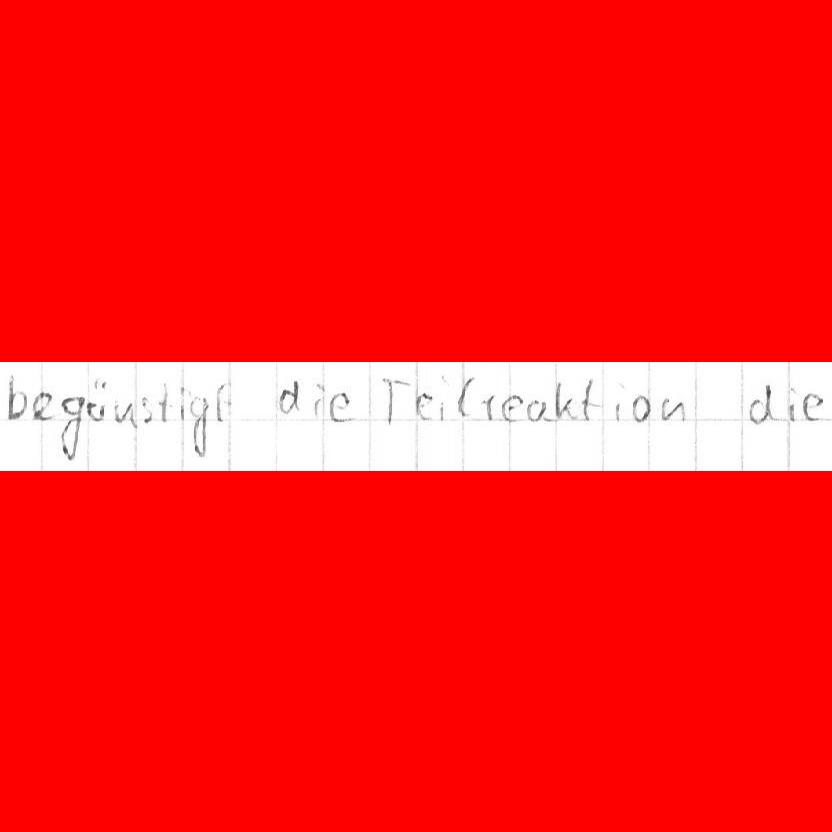Char: (57, 394, 84, 459), (3, 370, 30, 421), (380, 376, 406, 428), (190, 393, 209, 459), (86, 375, 109, 421), (554, 376, 578, 420), (748, 383, 773, 425), (455, 374, 475, 417), (277, 379, 300, 414), (329, 391, 354, 423), (32, 390, 54, 421), (414, 390, 436, 421), (658, 395, 682, 423), (582, 377, 598, 419), (801, 393, 824, 421), (438, 373, 452, 419), (630, 393, 651, 423), (214, 383, 230, 422), (112, 399, 135, 426), (500, 393, 520, 423), (156, 382, 171, 422), (525, 398, 548, 422), (480, 392, 497, 422), (311, 379, 325, 415), (139, 395, 154, 425), (613, 389, 626, 421), (786, 390, 799, 421), (175, 391, 186, 419)
